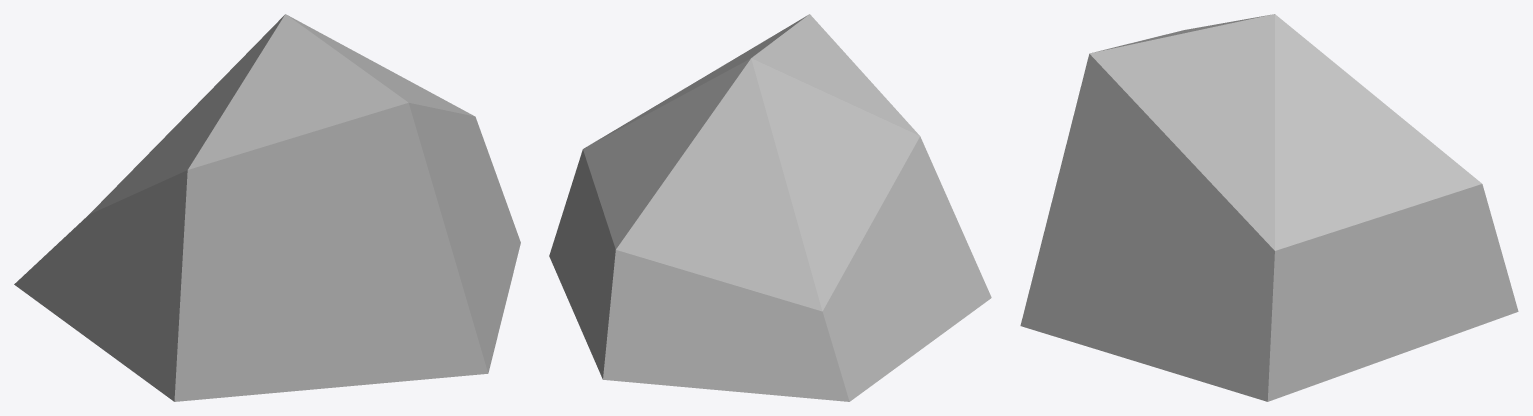
The model's file is rock_4.fbx.
3 renders of one model, left to right at view 1: azimuth 30°, elevation 25°; view 2: azimuth 150°, elevation 25°; view 3: azimuth 270°, elevation 25°, orthographic. The views are drawn at different scales.
Parts seen in each view (by area): view 1: rock_4; view 2: rock_4; view 3: rock_4.
Part boxes in pixels (<box>): rock_4: <box>14,14,520,401</box>; rock_4: <box>549,14,991,401</box>; rock_4: <box>1020,14,1518,401</box>.
Bounding box in the file's own units: 349 × 222 × 362.
